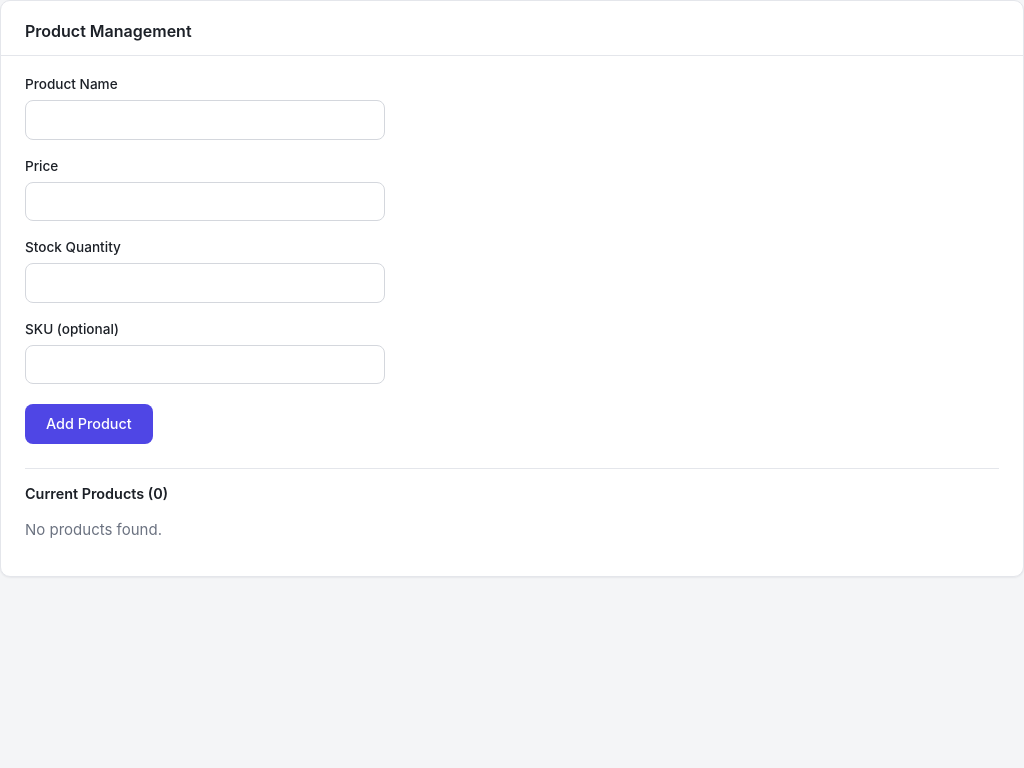
it: ProductManagement › rejects a negative price
Check: the text "No products found." is shown, box [25, 520, 162, 539]
Type "Widget" into the field labelled "Product Name" at (205, 120), box [25, 100, 385, 140]
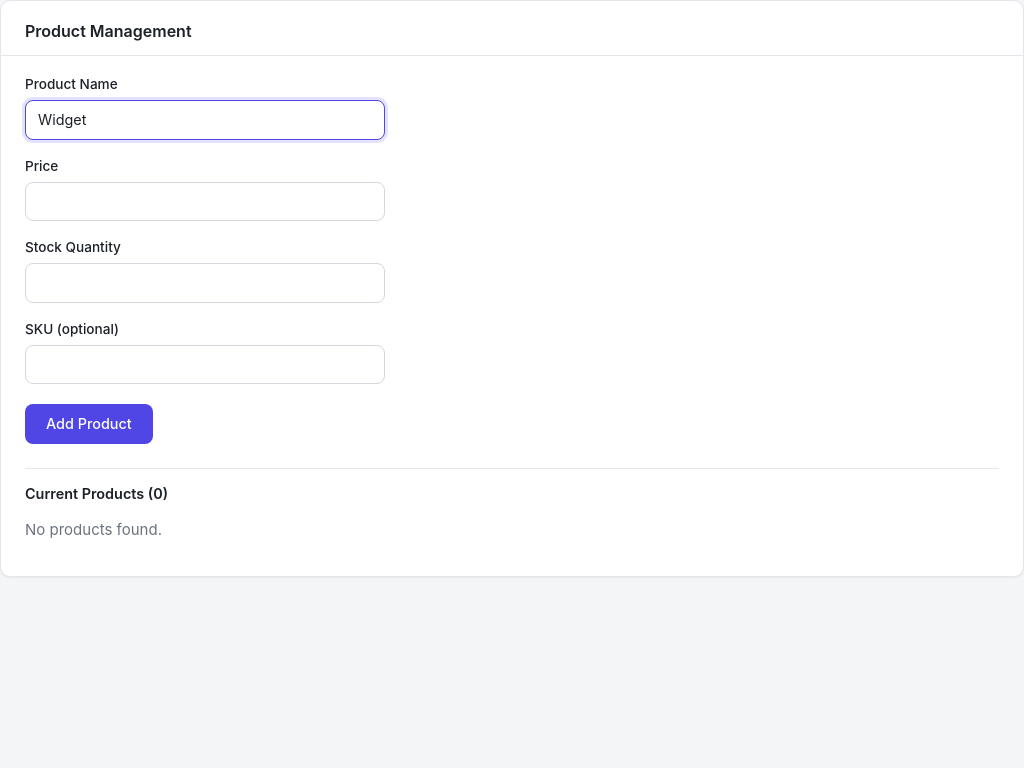
Type "-1" into the number field labelled "Price" at (205, 201), box [25, 182, 385, 221]
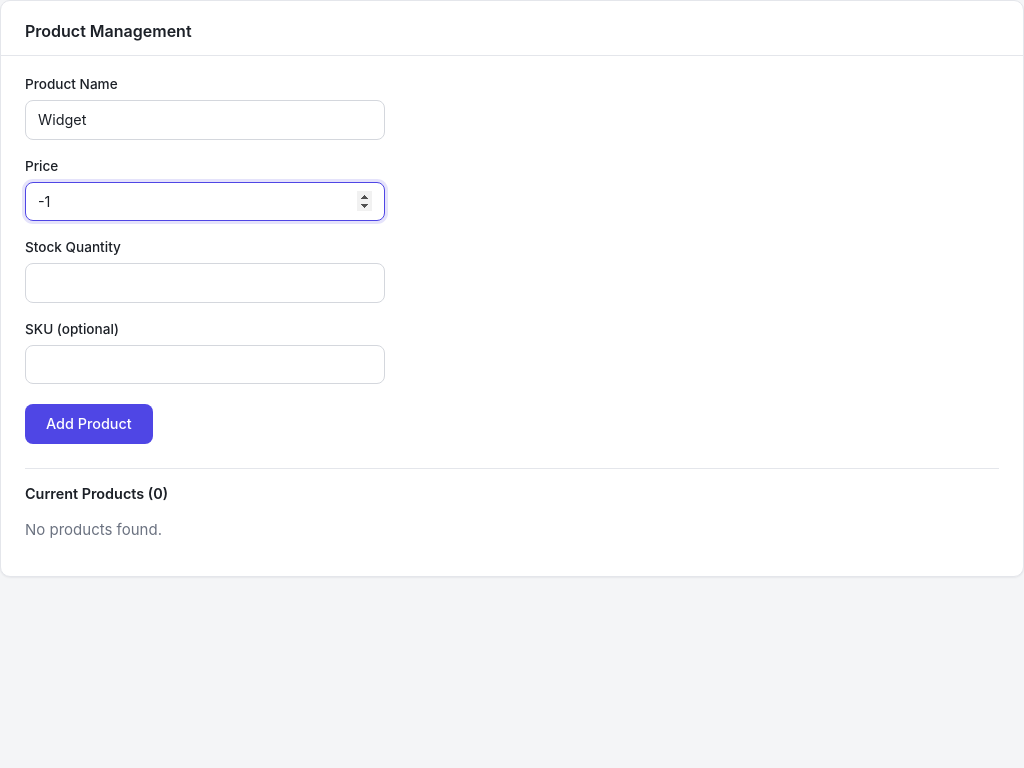
Type "5" into the number field labelled "Stock Quantity" at (205, 283), box [25, 263, 385, 303]
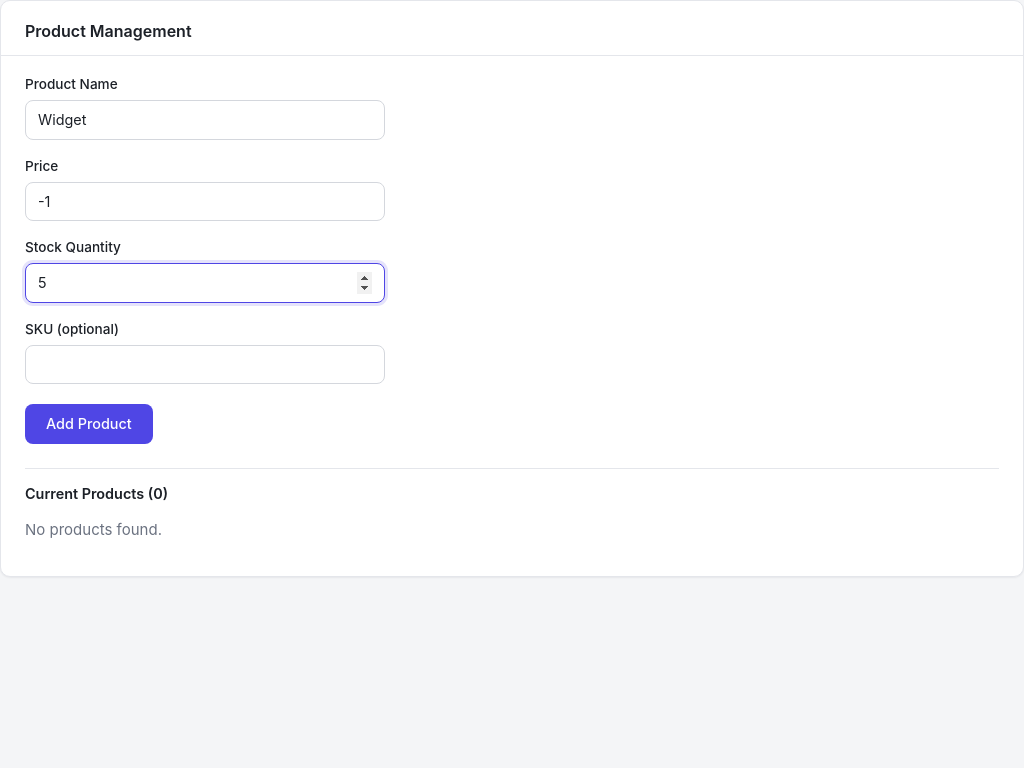
Click the button "Add Product" at (89, 424), box [25, 404, 153, 444]
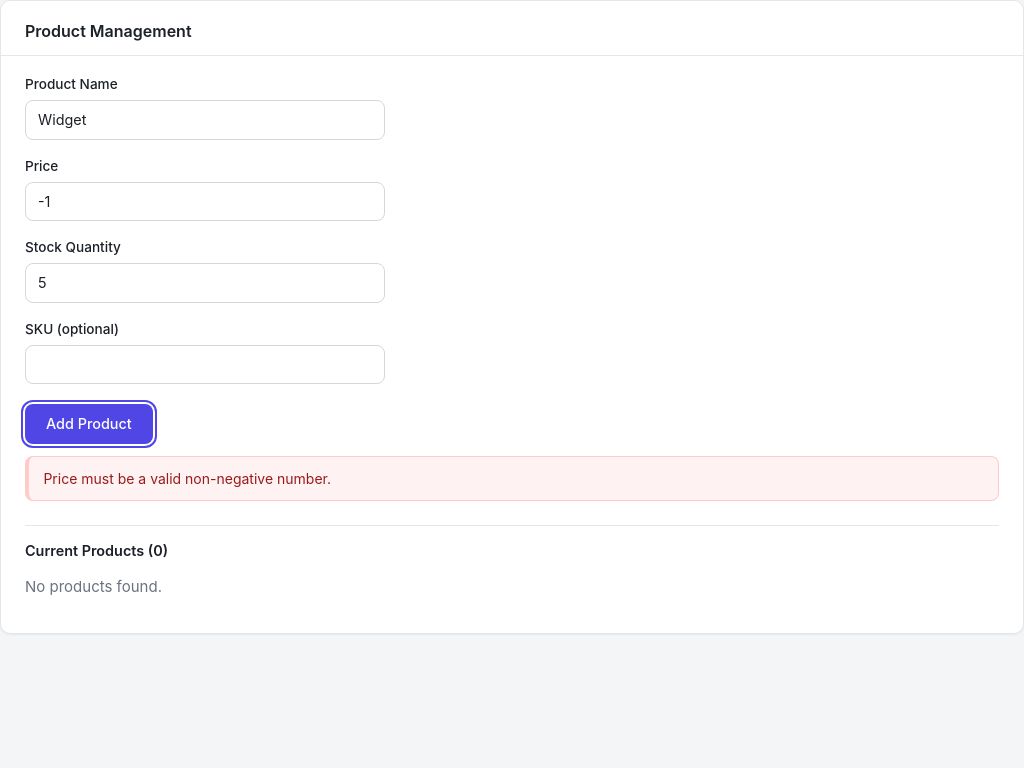
Check: the text "Price must be a valid non-negative number." is shown, box [25, 456, 999, 501]
